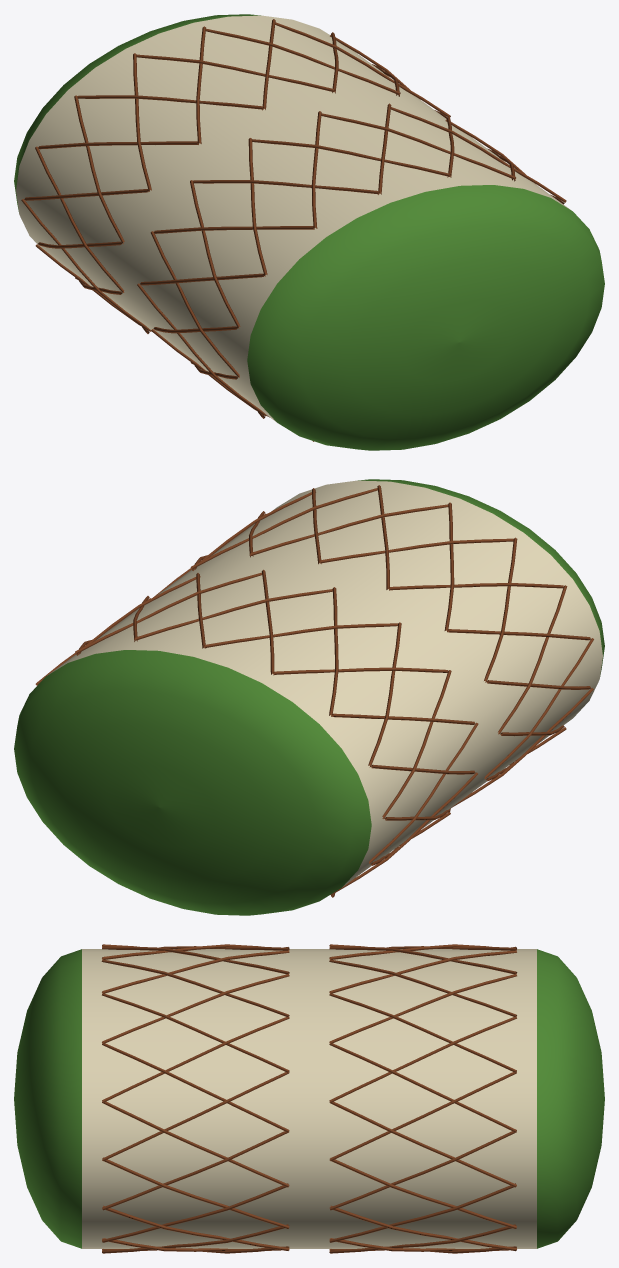
The model's file is pod100_hull.obj.
3 views of the same model, one above another, from view 1: azimuth 30°, elevation 25°; view 2: azimuth 150°, elevation 25°; view 3: azimuth 270°, elevation 25° (orthographic).
Parts seen in each view (by area): view 1: pod100_hull; view 2: pod100_hull; view 3: pod100_hull.
Part boxes in pixels (bbox=[...]): pod100_hull: bbox=[14, 14, 604, 450]; pod100_hull: bbox=[14, 479, 604, 915]; pod100_hull: bbox=[14, 944, 604, 1253].
Bounding box in the file's own units: 7.04 × 4.76 × 10.
